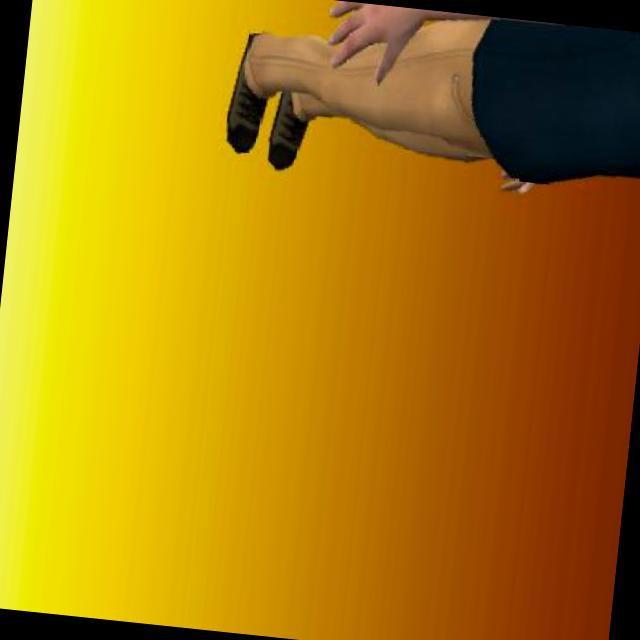Person: (214, 0, 640, 218)
